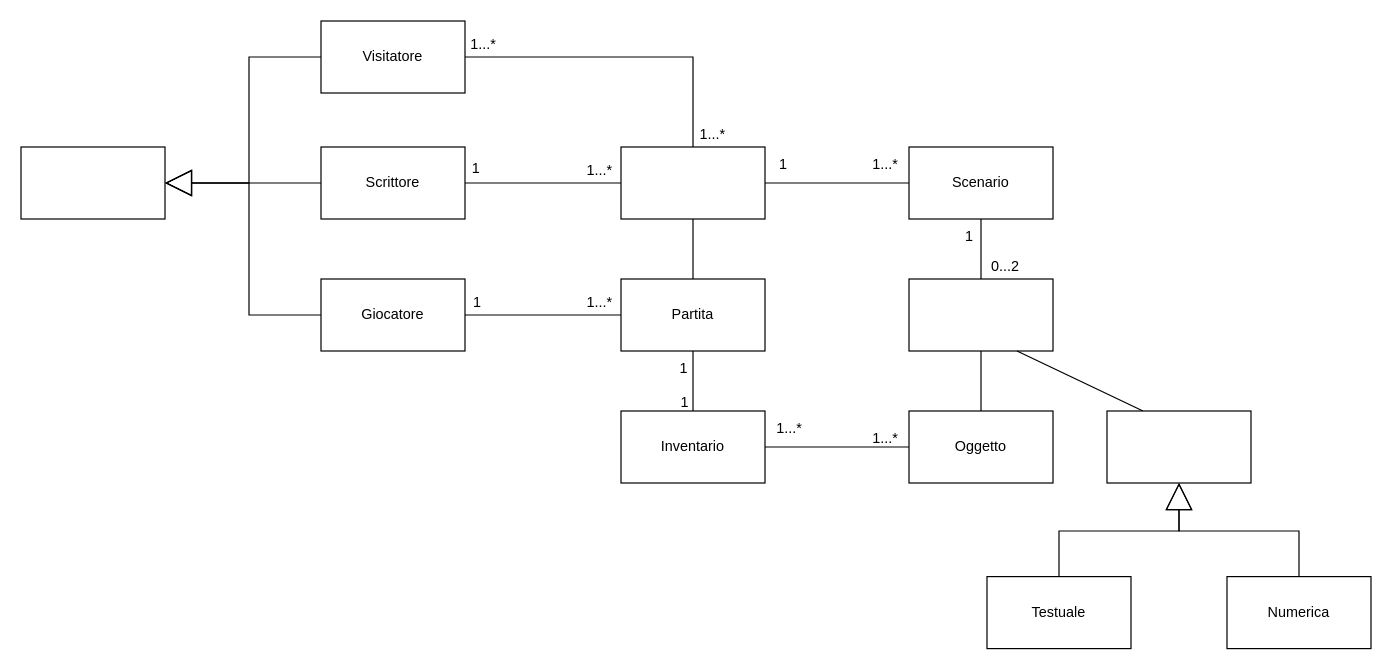
This 1392x670 diagram has some shape labels left out. The shapes that lost their labels are listed below. From the top down, each one's centre as x and y in pixels, then its label:
(92,182): Utente
(692,182): Storia
(980,314): Scelta
(1178,446): Indovinelli
